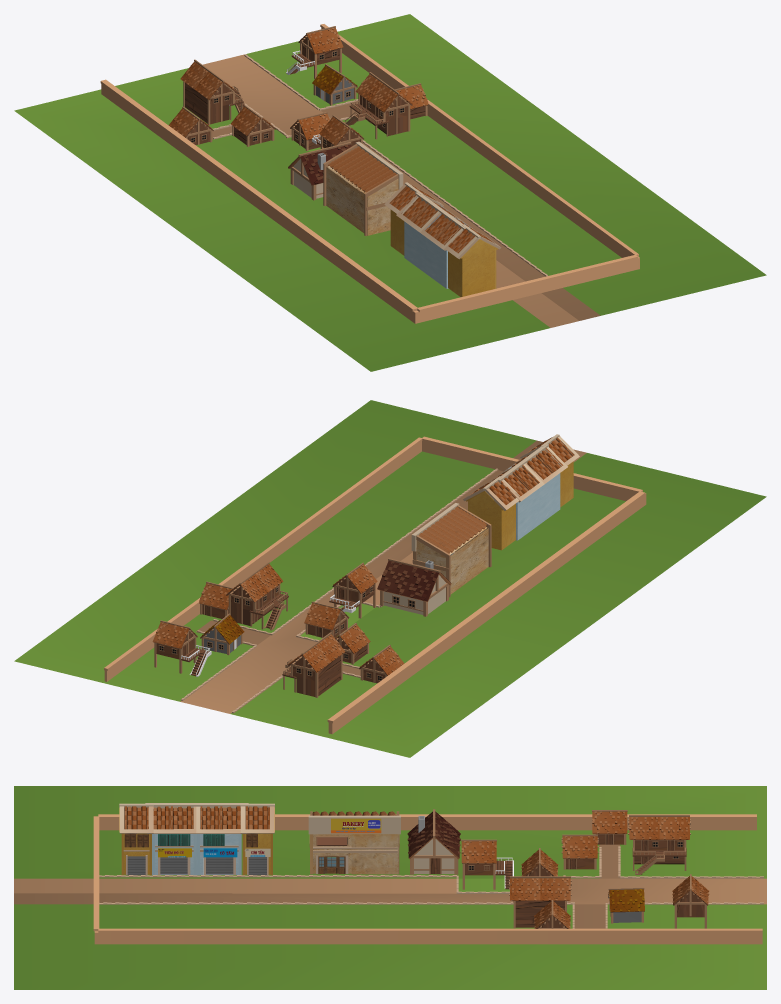
File: TraditionalTownFull1.glb
3 renders of one model, top to bottom at view 1: azimuth 30°, elevation 25°; view 2: azimuth 150°, elevation 25°; view 3: azimuth 270°, elevation 25°, orthographic. The views are drawn at different scales.
Parts seen in each view (by area): view 1: Town; view 2: Town; view 3: Town.
Boxes of the visible parts, x1,y1,x2,y2 form: Town: (14,14,766,371); Town: (14,400,766,757); Town: (14,786,766,989).
Bounding box in the file's own units: 31.68 × 4.74 × 49.45.
Materials: 29 (27 with a texture image).
